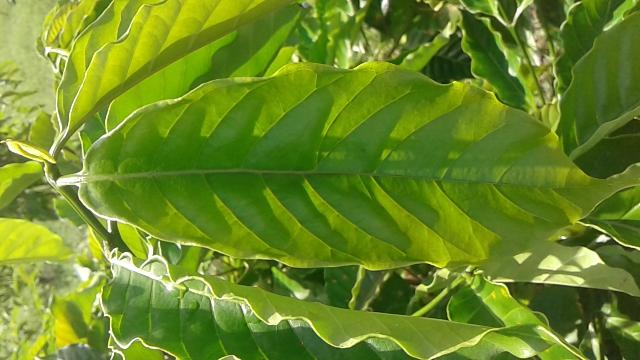healthy: (74, 60, 640, 272)
